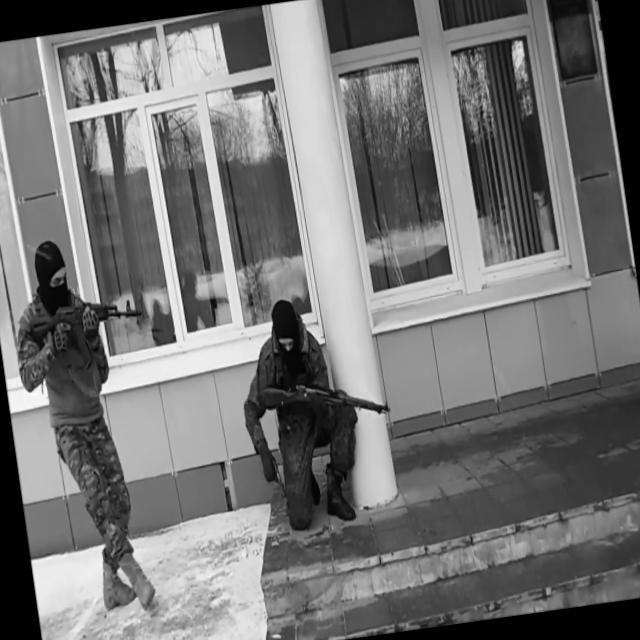gun: (27, 289, 148, 376), (261, 369, 392, 432), (262, 456, 286, 501)
person with a gun: (2, 230, 183, 621), (228, 287, 406, 537)
